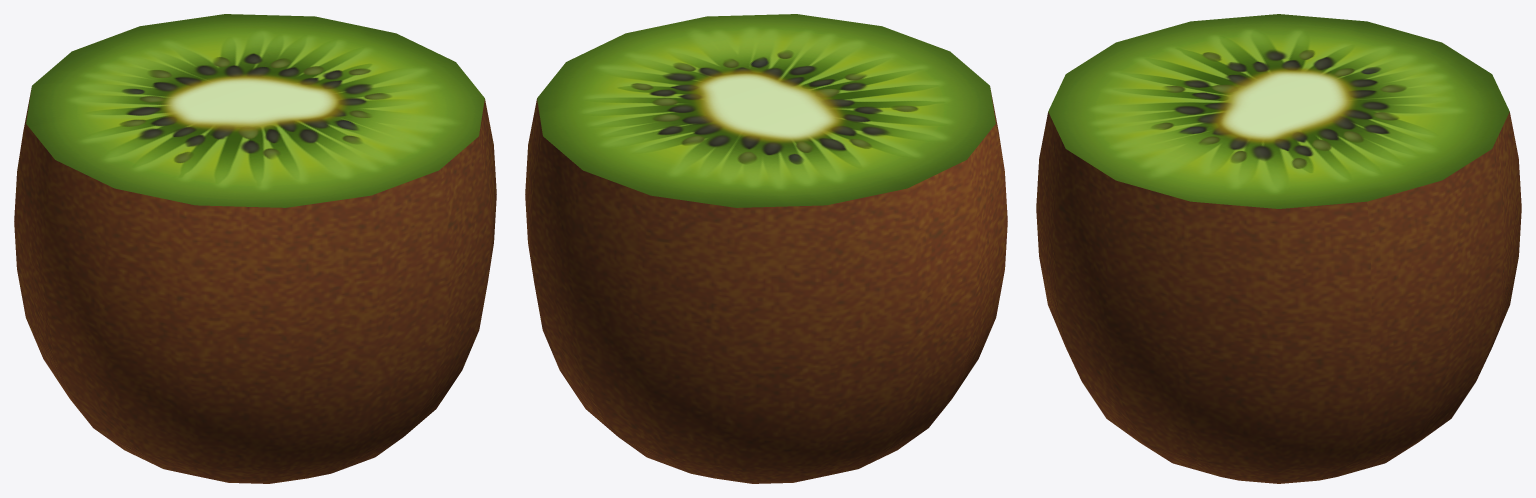
File: Kiwi_Half.fbx
The picture shows the model from 3 angles, left to right: view 1: azimuth 30°, elevation 25°; view 2: azimuth 150°, elevation 25°; view 3: azimuth 270°, elevation 25°; orthographic projection.
Visible parts, largest first — view 1: Kiwi_Half; view 2: Kiwi_Half; view 3: Kiwi_Half.
Part boxes in pixels (x1,y1,x2,y2): Kiwi_Half: (14,14,496,483); Kiwi_Half: (525,14,1007,483); Kiwi_Half: (1036,14,1521,483).
Bounding box in the file's own units: 26.59 × 21.4 × 26.59.
